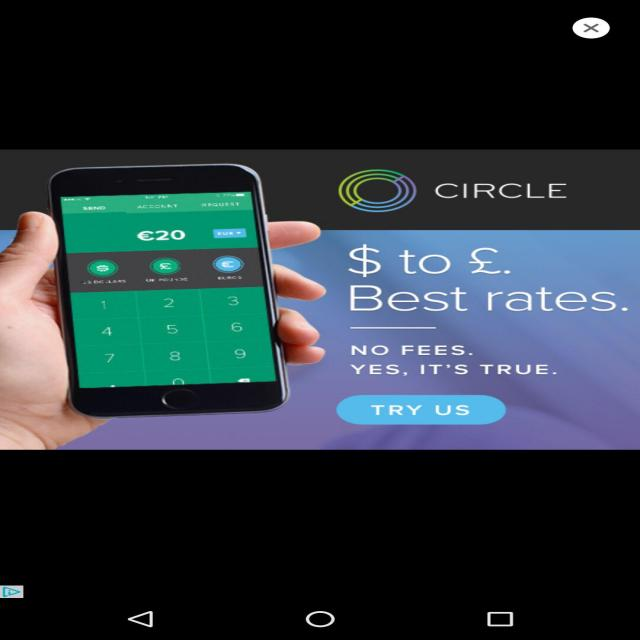button: (335, 396, 505, 425), (0, 580, 36, 601)
icon: (330, 168, 414, 216), (573, 15, 611, 42), (0, 581, 25, 603)
image: (1, 146, 640, 451), (29, 162, 318, 426)
text: (342, 243, 633, 316), (348, 342, 565, 378), (435, 180, 569, 203), (367, 402, 479, 419), (342, 324, 447, 332)
